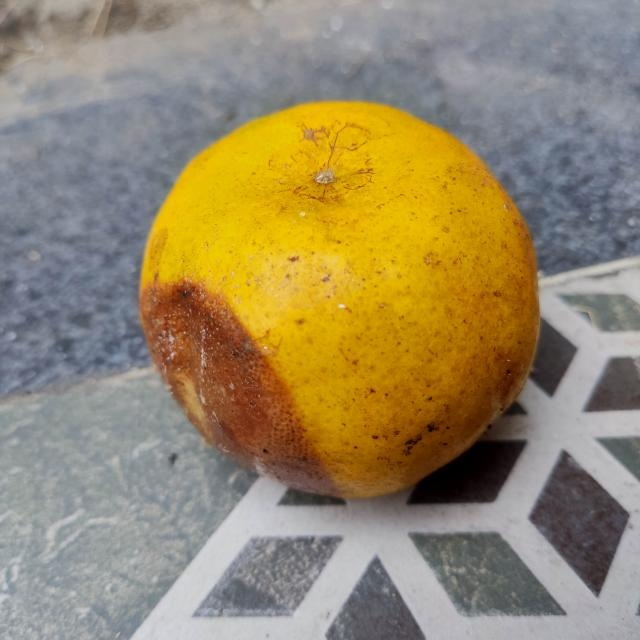agrume: (139, 98, 541, 496)
